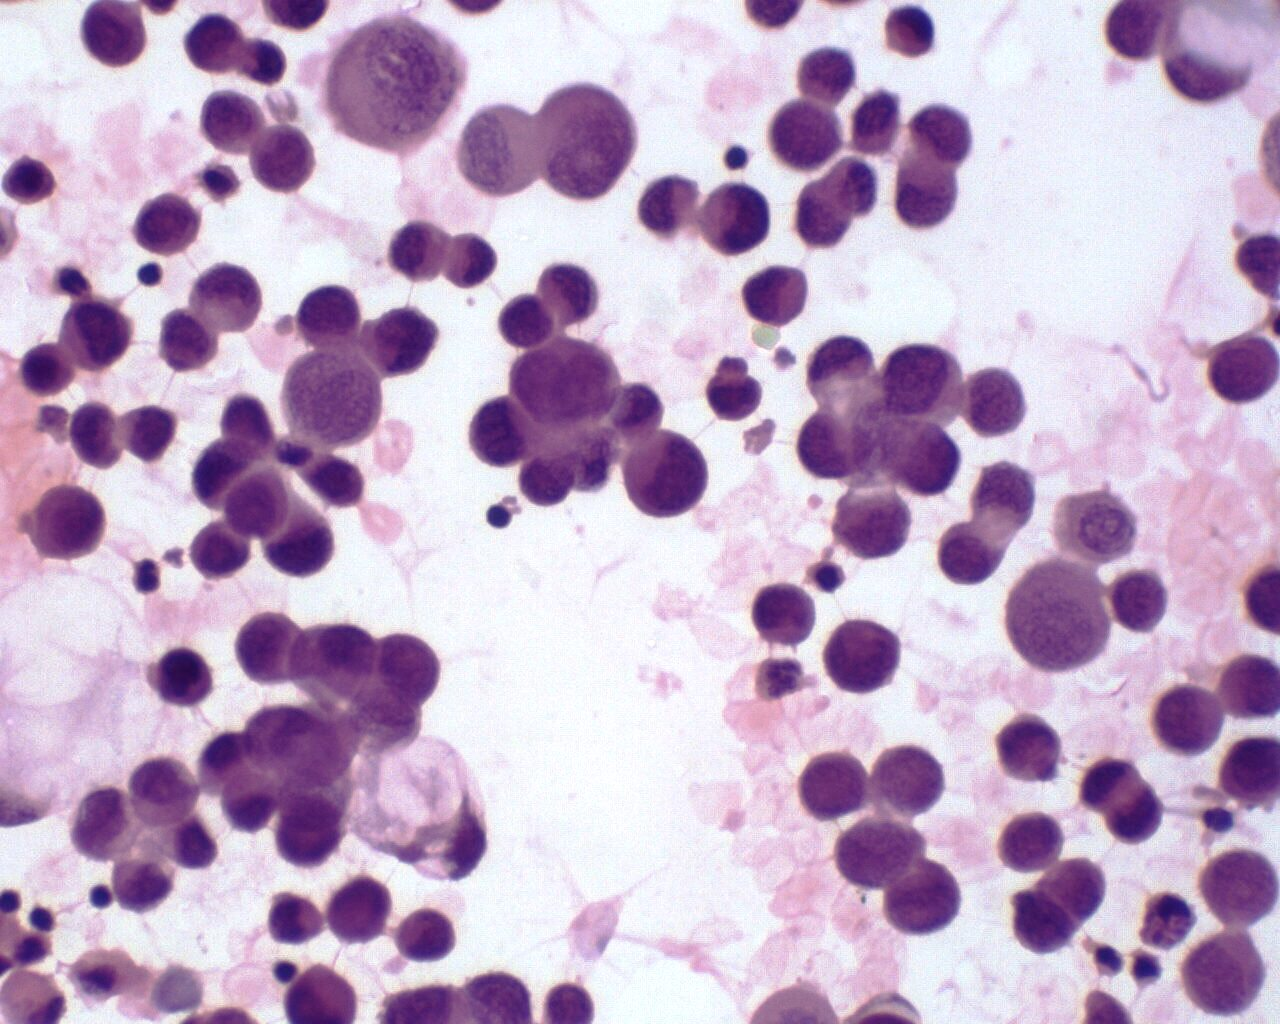ab: (621, 429, 713, 525), (1178, 926, 1269, 1016), (834, 815, 924, 893), (699, 179, 779, 264), (1198, 843, 1280, 927), (30, 480, 109, 565), (883, 860, 969, 937), (824, 612, 902, 697), (1150, 677, 1227, 759), (763, 97, 844, 173), (793, 748, 870, 827), (69, 1, 150, 74), (126, 755, 206, 830), (323, 869, 395, 949), (369, 302, 439, 383), (1001, 887, 1084, 956), (1206, 332, 1280, 409), (872, 743, 948, 817), (55, 295, 131, 369), (231, 611, 308, 683), (249, 124, 319, 203), (223, 465, 295, 538), (469, 395, 535, 474), (293, 283, 366, 354), (960, 367, 1035, 435), (131, 192, 207, 259), (996, 806, 1067, 876), (933, 520, 1003, 584), (197, 87, 263, 153), (218, 768, 280, 838), (751, 582, 817, 646), (155, 646, 213, 709)
lymph: (716, 139, 757, 174), (132, 259, 170, 293), (267, 956, 306, 987), (87, 879, 117, 915), (486, 501, 517, 531)
